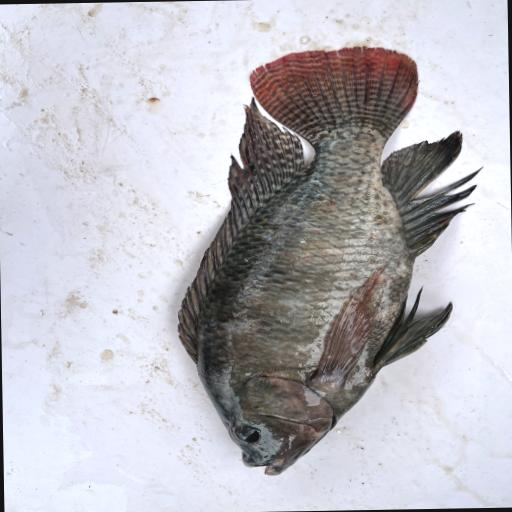Tilapia: (173, 44, 489, 477)
